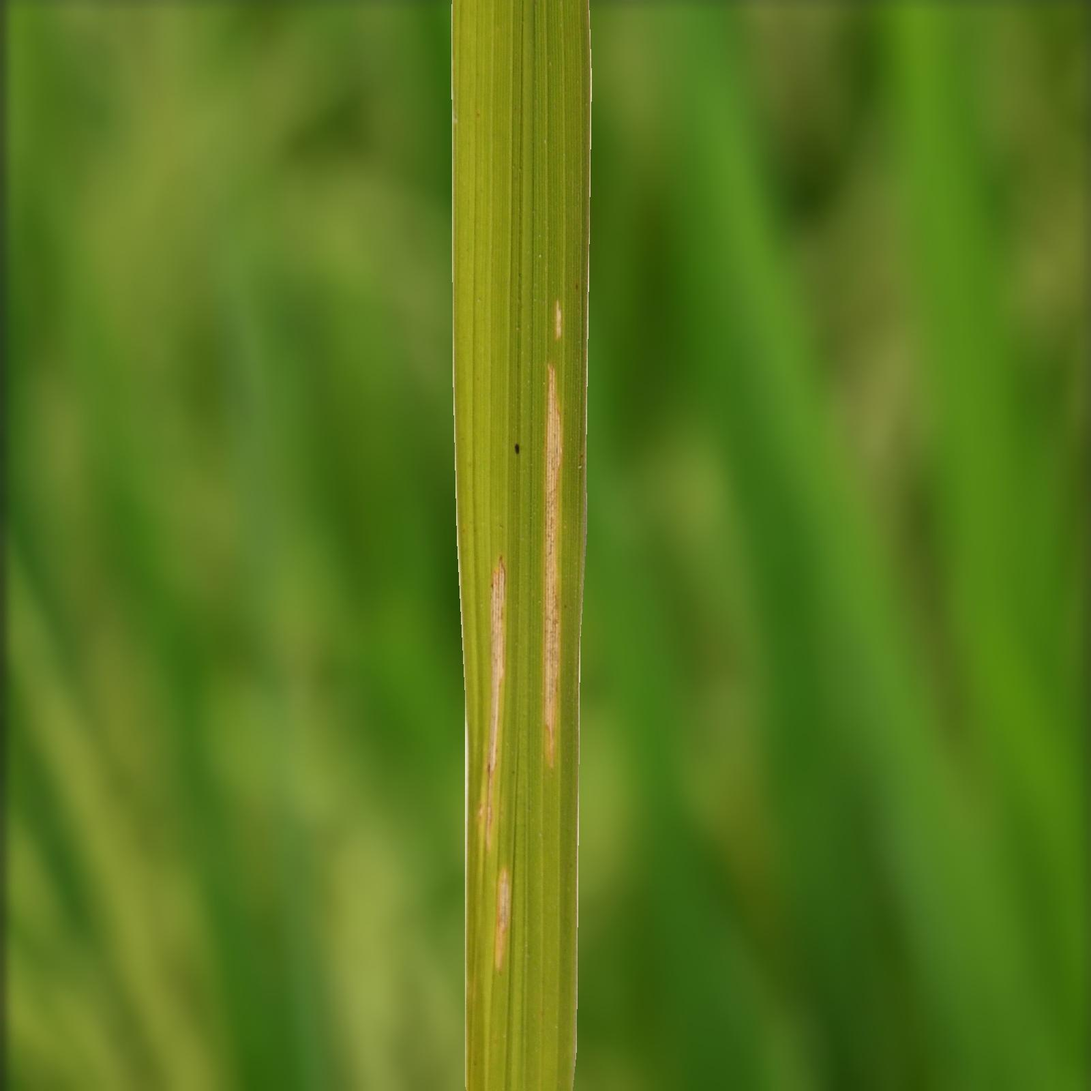BLS: (477, 555, 506, 848), (543, 365, 562, 765), (495, 868, 509, 970), (554, 299, 563, 339)
LEAF: (451, 0, 591, 1090)
